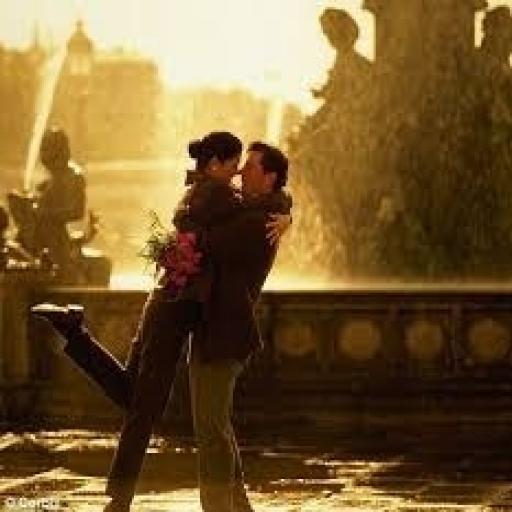hugging: (28, 128, 296, 510)
